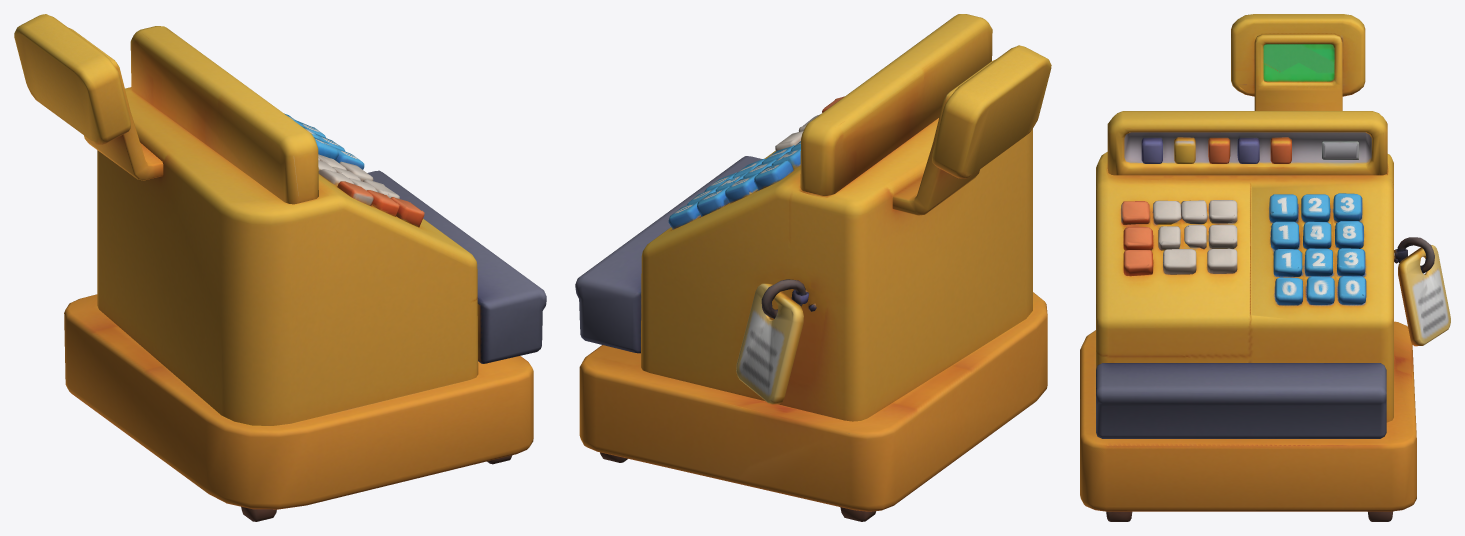
Rendered from tile7.glb.
3 views of the same model, side by side, from view 1: azimuth 30°, elevation 25°; view 2: azimuth 150°, elevation 25°; view 3: azimuth 270°, elevation 25° (orthographic). The views are drawn at different scales.
Parts seen in each view (by area): view 1: tripo_node_b94e1d38-8cb5-4b11-8967-c3bc26c4f7d4; view 2: tripo_node_b94e1d38-8cb5-4b11-8967-c3bc26c4f7d4; view 3: tripo_node_b94e1d38-8cb5-4b11-8967-c3bc26c4f7d4.
Part boxes in pixels (left/top/right/bottom): tripo_node_b94e1d38-8cb5-4b11-8967-c3bc26c4f7d4: left=14, top=14, right=546, bottom=521; tripo_node_b94e1d38-8cb5-4b11-8967-c3bc26c4f7d4: left=575, top=14, right=1051, bottom=521; tripo_node_b94e1d38-8cb5-4b11-8967-c3bc26c4f7d4: left=1080, top=14, right=1450, bottom=521.
Size of the model in its own units: 0.9473 by 0.998 by 0.916.
Materials: 1 (1 with a texture image).
